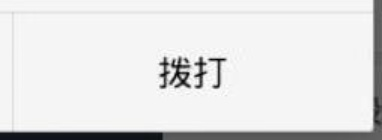Button: (1, 1, 381, 139)
